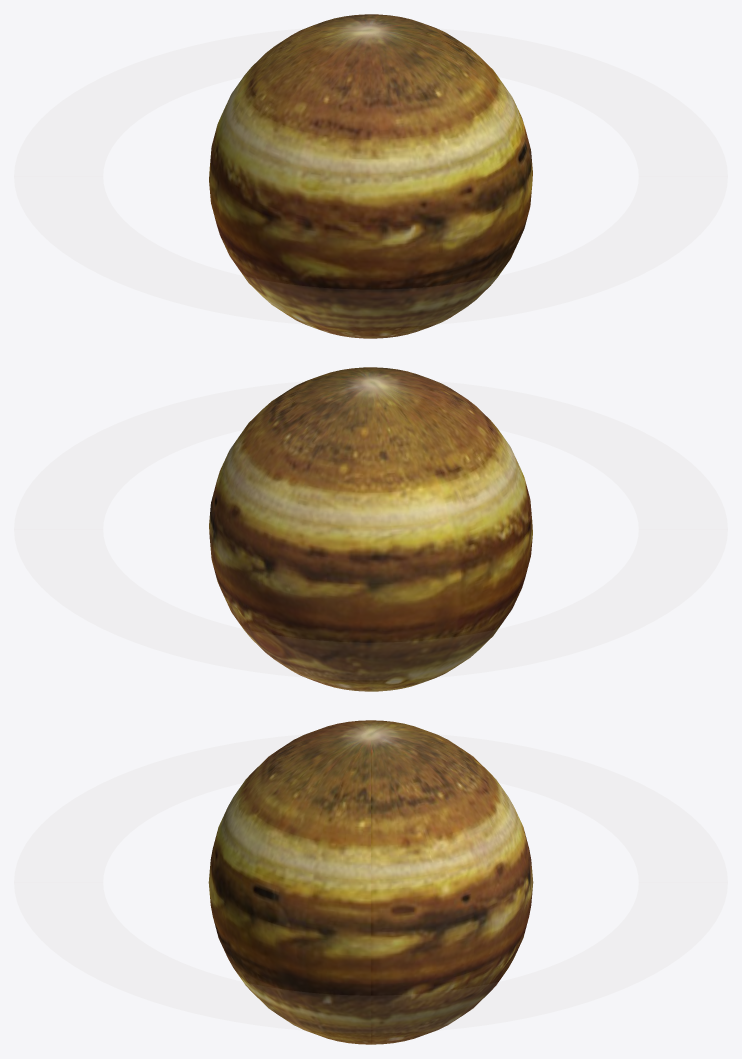
The model's file is jupiter.glb.
The picture shows the model from 3 angles, top to bottom: view 1: azimuth 30°, elevation 25°; view 2: azimuth 150°, elevation 25°; view 3: azimuth 270°, elevation 25°; orthographic projection.
Size of the model in its own units: 4.4 by 2 by 4.4.
2 materials, 1 textured.
